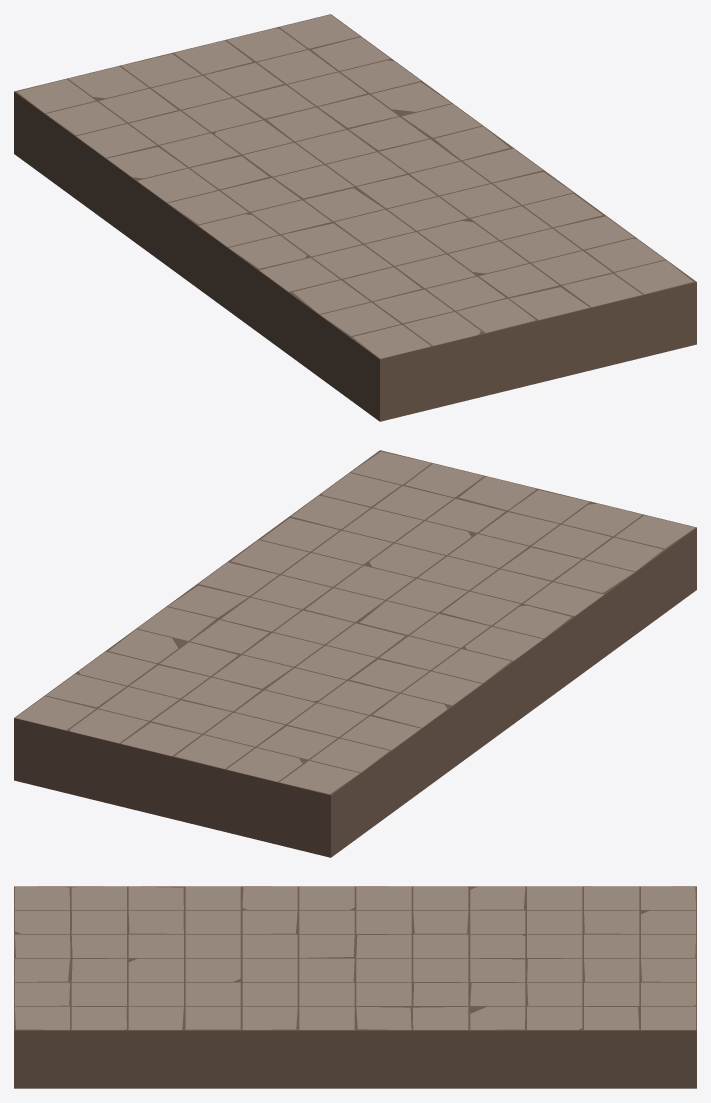
The model's file is Seafront_04.fbx.
3 views of the same model, one above another, from view 1: azimuth 30°, elevation 25°; view 2: azimuth 150°, elevation 25°; view 3: azimuth 270°, elevation 25° (orthographic). The views are drawn at different scales.
Visible parts, largest first — view 1: Seafront_04; view 2: Seafront_04; view 3: Seafront_04.
Boxes of the visible parts, box(x1,y1,x2,y2) form: Seafront_04: box(14, 14, 696, 421); Seafront_04: box(14, 450, 696, 857); Seafront_04: box(14, 886, 696, 1088).
Size of the model in its own units: 600 by 113 by 1200.
